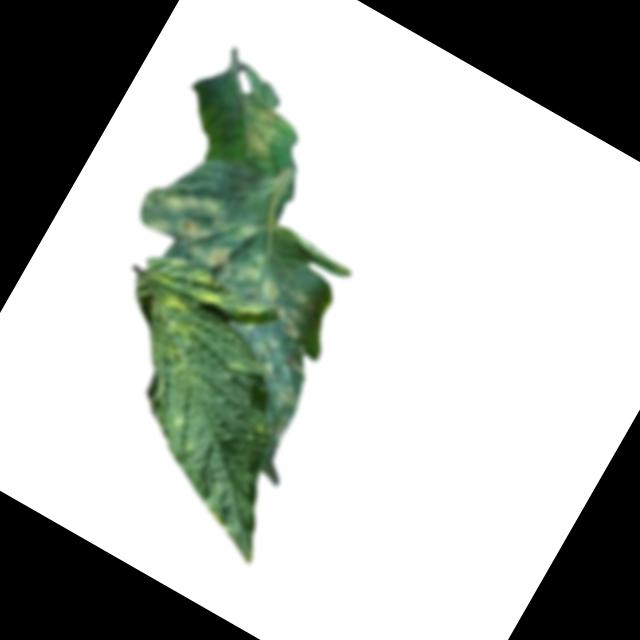Leaf_Mold: (118, 169, 339, 341), (107, 253, 228, 374), (219, 95, 290, 166)
